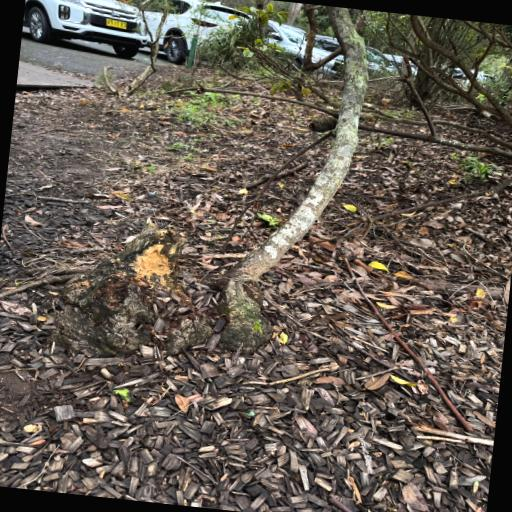tree root: (52, 7, 367, 357)
